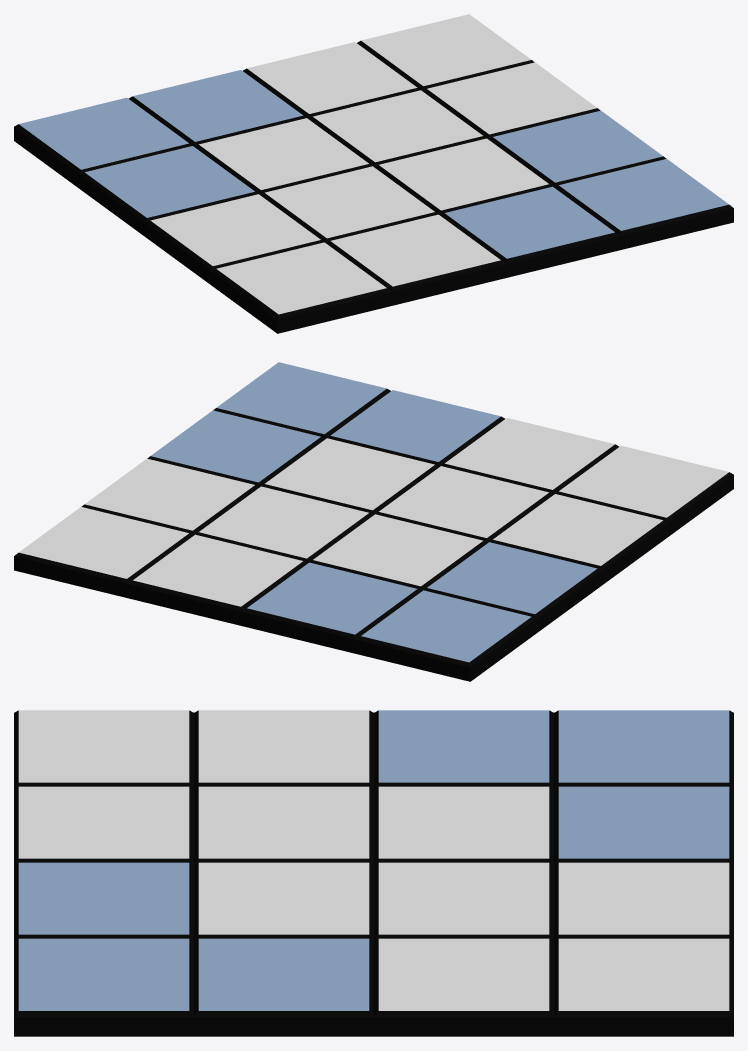
File: H_Floor_Medium_Reception.fbx
The picture shows the model from 3 angles, top to bottom: view 1: azimuth 30°, elevation 25°; view 2: azimuth 150°, elevation 25°; view 3: azimuth 270°, elevation 25°; orthographic projection. The views are drawn at different scales.
Visible parts, largest first — view 1: H_Floor_Medium_Reception; view 2: H_Floor_Medium_Reception; view 3: H_Floor_Medium_Reception.
Part boxes in pixels (left/top/right/bottom): H_Floor_Medium_Reception: left=14, top=14, right=733, bottom=333; H_Floor_Medium_Reception: left=14, top=362, right=733, bottom=681; H_Floor_Medium_Reception: left=14, top=710, right=733, bottom=1036.
Bounding box in the file's own units: 2000 × 2000 × 72.89.
